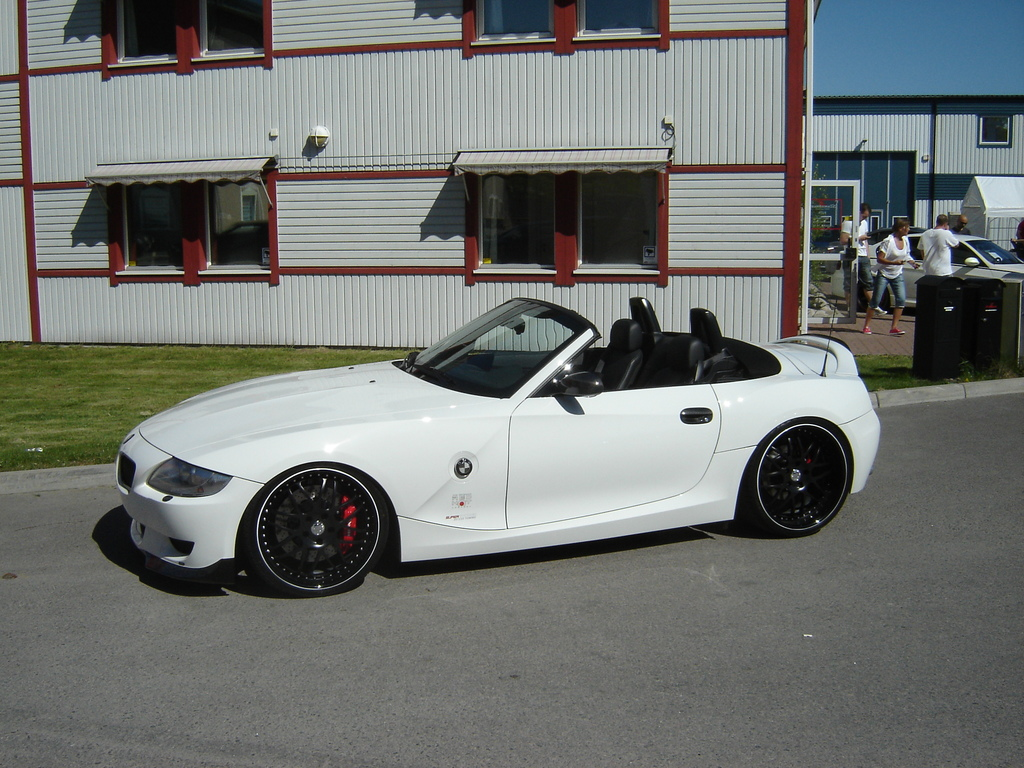mobil: (107, 312, 892, 602)
